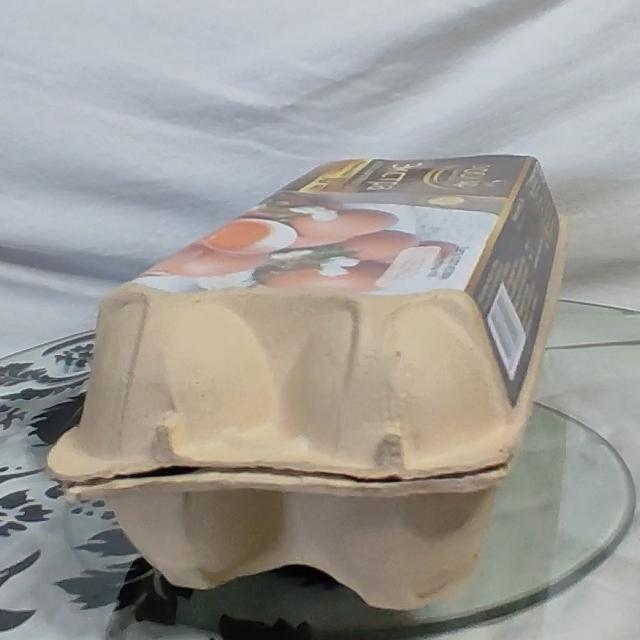egg: (63, 127, 572, 618)
